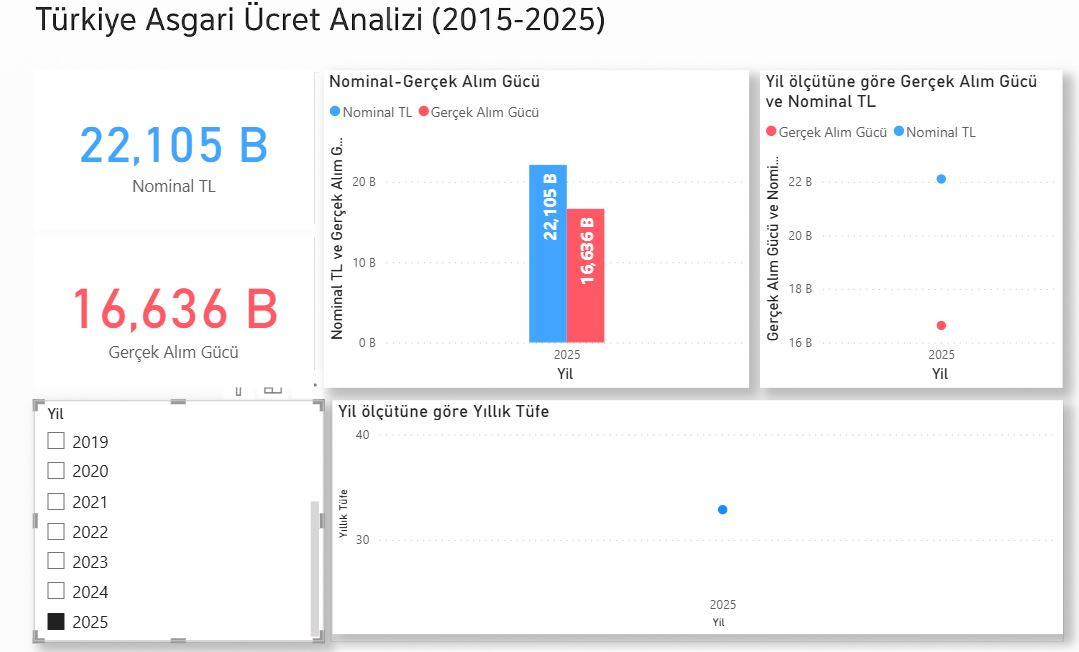

Layout of this report page (visuals, bound fields, positions):
{"tool":"powerbi","page":{"name":"1. sayfa","canvas":[1280,720],"ordinal":0},"visuals":[{"type":"image","box":[107.4,0,1155.7,720.2],"z":0},{"type":"slicer","fields":{"Values":["Sheet1.Yil"]},"box":[187,445.2,279.9,232.8],"z":1000},{"type":"clusteredColumnChart","title":"Nominal-Gerçek Alım Gücü","fields":{"Category":["Sheet1.Yil"],"Y":["Sum(Sheet1.Nominal_TL)","Sum(Sheet1.Gercek_Alim_Gucu_TL)"]},"box":[466.9,126.7,410.2,306.4],"z":2000},{"type":"card","fields":{"Values":["Sum(Sheet1.Nominal_TL)"]},"box":[187,126.7,270.2,153.2],"z":3000},{"type":"card","fields":{"Values":["Sum(Sheet1.Gercek_Alim_Gucu_TL)"]},"box":[187,287.1,270.2,146],"z":4000},{"type":"lineChart","fields":{"Category":["Sheet1.Yil"],"Y":["Sum(Sheet1.Gercek_Alim_Gucu_TL)","Sum(Sheet1.Nominal_TL)"]},"box":[887.9,126.7,292,306.4],"z":5000},{"type":"lineChart","fields":{"Y":["Sum(Sheet1.TUFE_Yillik_%)"],"Category":["Sheet1.Yil"]},"box":[475.3,445.2,704.5,225.6],"z":6000}]}

Visuals, with their boxes on the page's 1280x720 design canvas (x1, y1, x2, y2). These are canvas units, not pixel positions in the 1079x652 screenshot, which may show the page scaled, cropped or inside an application window:
image: [x1=107, y1=0, x2=1263, y2=720]
slicer - Sheet1.Yil: [x1=187, y1=445, x2=467, y2=678]
"Nominal-Gerçek Alım Gücü" clusteredColumnChart: [x1=467, y1=127, x2=877, y2=433]
card - Sum(Sheet1.Nominal_TL): [x1=187, y1=127, x2=457, y2=280]
card - Sum(Sheet1.Gercek_Alim_Gucu_TL): [x1=187, y1=287, x2=457, y2=433]
lineChart - Sheet1.Yil x Sum(Sheet1.Gercek_Alim_Gucu_TL): [x1=888, y1=127, x2=1180, y2=433]
lineChart - Sum(Sheet1.TUFE_Yillik_%) x Sheet1.Yil: [x1=475, y1=445, x2=1180, y2=671]
